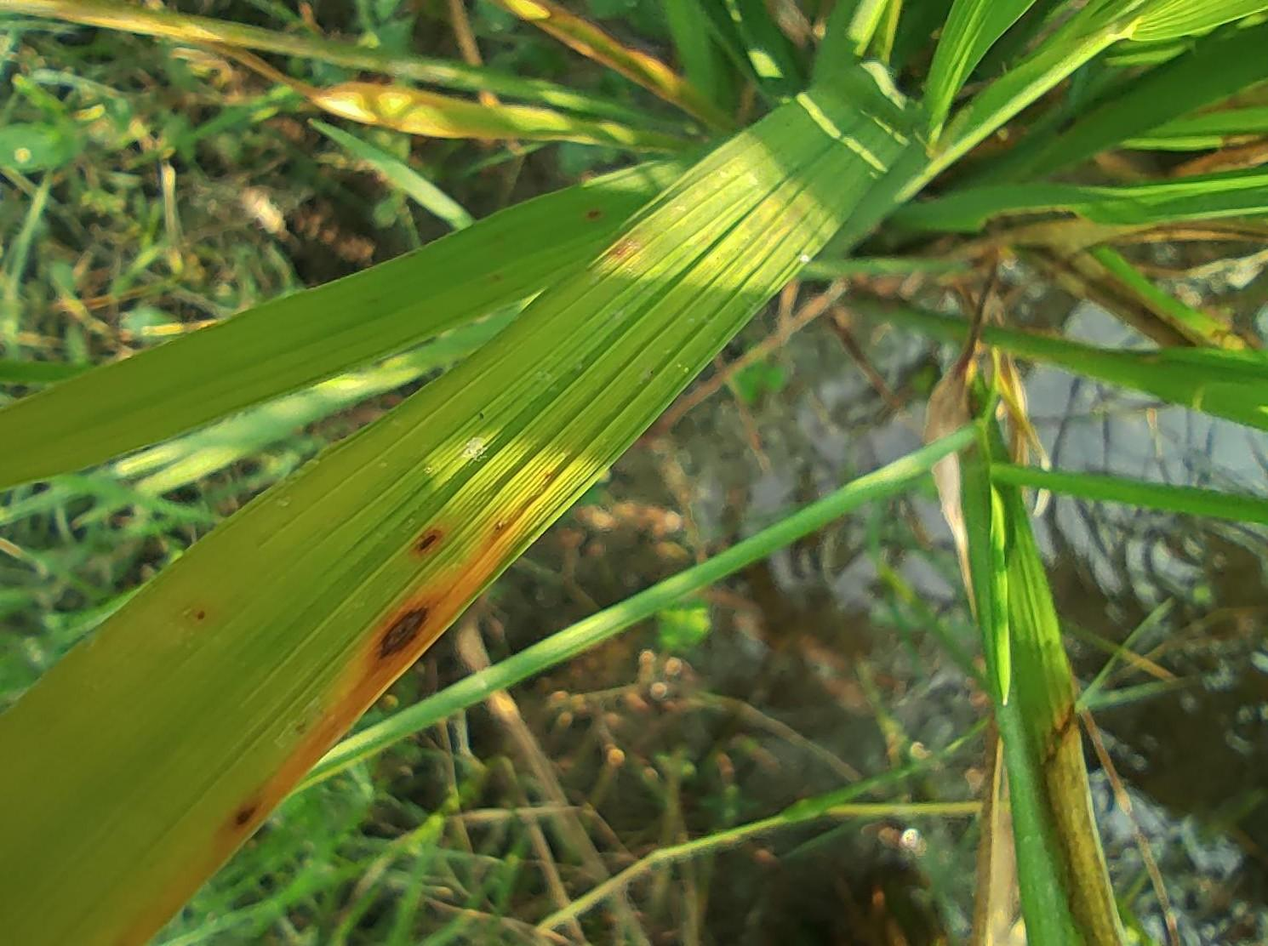LEAF: (0, 63, 917, 945)
LEAF BLAST: (378, 607, 427, 660)
